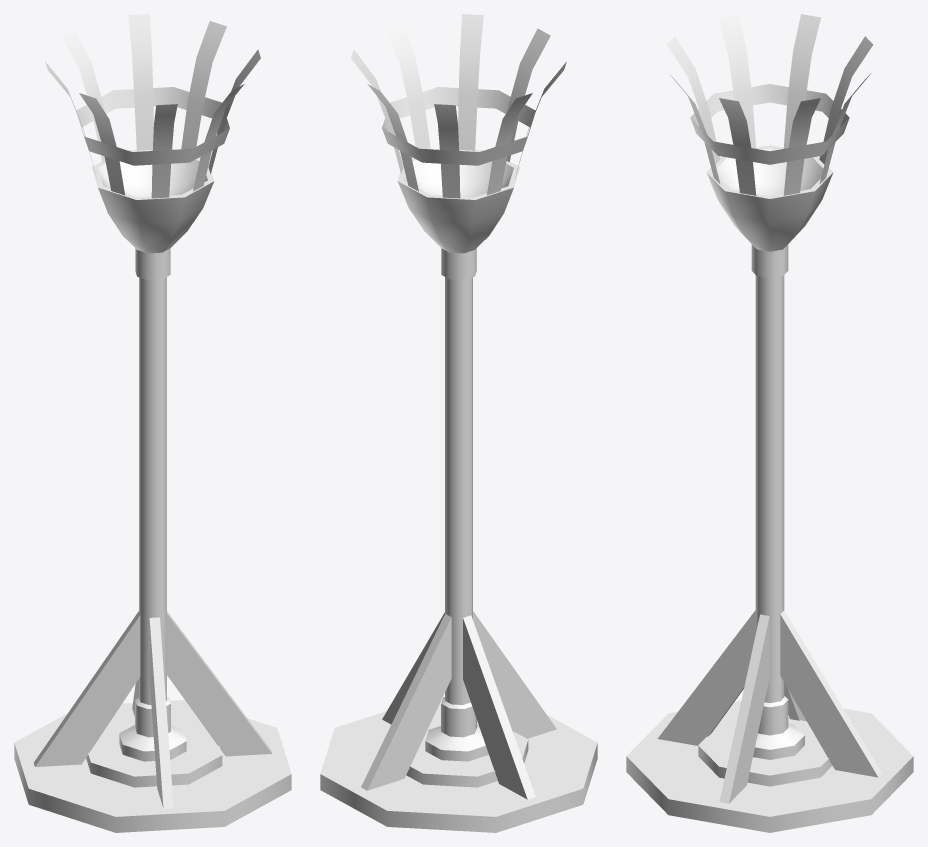
File: hoatbuldae.fbx
The picture shows the model from 3 angles, left to right: view 1: azimuth 30°, elevation 25°; view 2: azimuth 150°, elevation 25°; view 3: azimuth 270°, elevation 25°; orthographic projection.
Parts seen in each view (by area): view 1: hoatbuldae; view 2: hoatbuldae; view 3: hoatbuldae.
Boxes of the visible parts, left/top/right/bottom form: hoatbuldae: left=14, top=14, right=291, bottom=832; hoatbuldae: left=320, top=14, right=597, bottom=832; hoatbuldae: left=626, top=14, right=913, bottom=832.
Size of the model in its own units: 55.45 by 152 by 55.45.
